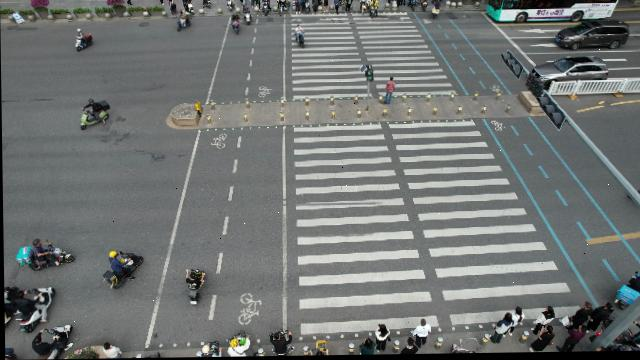non-motor-vehicle: (13, 287, 60, 328), (25, 238, 77, 271), (103, 250, 145, 289), (29, 328, 71, 359), (82, 99, 113, 131), (615, 287, 640, 311), (270, 330, 294, 354), (228, 333, 250, 357), (183, 268, 205, 290), (74, 33, 93, 51), (241, 3, 254, 27), (13, 247, 29, 266), (177, 16, 194, 32), (294, 26, 305, 49), (205, 342, 221, 357), (314, 341, 328, 356), (278, 0, 290, 17), (451, 347, 476, 355), (232, 17, 242, 35), (4, 346, 16, 360), (263, 0, 272, 18), (368, 4, 378, 19), (358, 0, 366, 17), (431, 7, 441, 20), (409, 0, 418, 14), (303, 0, 310, 15), (422, 0, 428, 13)
person: (492, 316, 518, 345), (411, 321, 433, 348), (532, 307, 560, 328), (572, 304, 592, 329), (614, 335, 640, 353), (596, 302, 614, 328), (563, 332, 585, 353), (537, 331, 555, 352), (384, 76, 396, 107), (101, 343, 122, 359), (374, 326, 390, 342), (359, 340, 373, 355), (295, 0, 302, 16), (335, 0, 341, 17), (347, 0, 353, 14), (314, 0, 319, 16), (325, 0, 330, 15)
